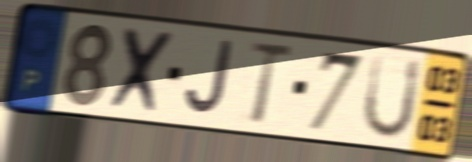7: (307, 47, 367, 133)
8: (60, 20, 115, 110)
J: (182, 38, 235, 120)
T: (246, 40, 296, 128)
U: (360, 51, 425, 142)
X: (105, 24, 180, 119)
